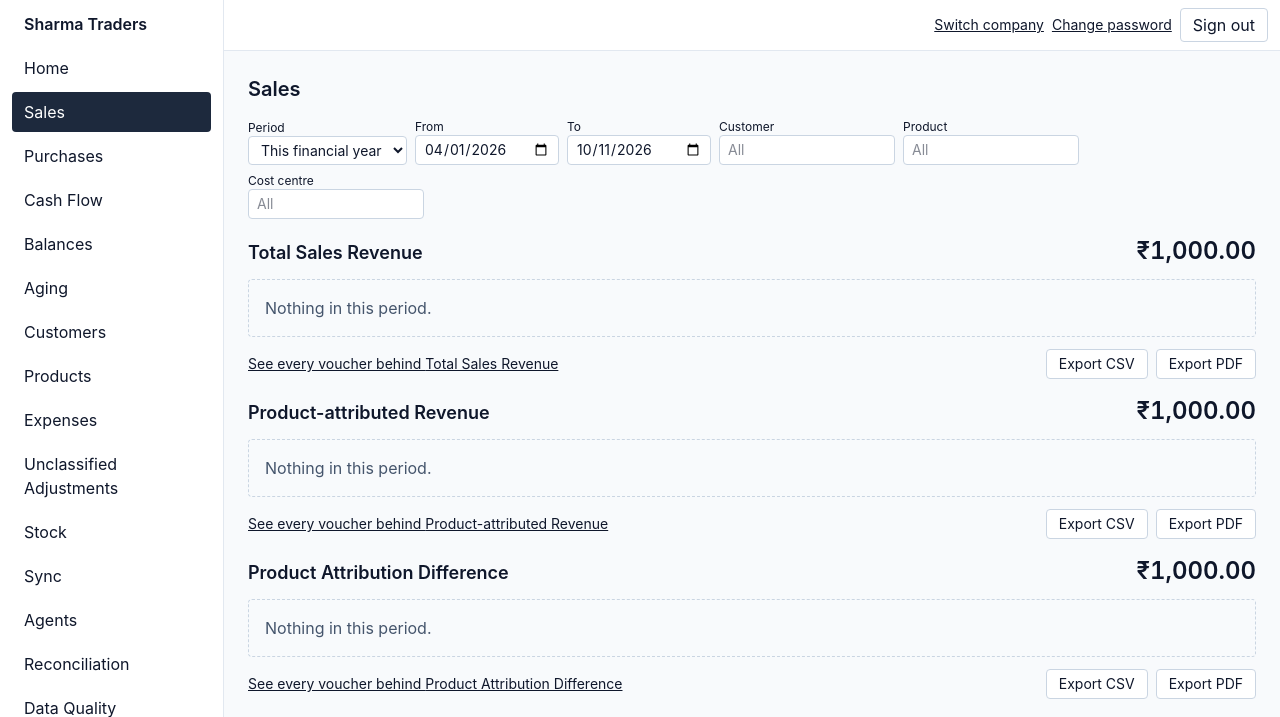
Scenario: exporting a view (EXP-1.1-1.6) › shows the server's refusal instead of a broken file
The image size is (1280, 717).
Click the 1st button "Export CSV" at (1097, 364), box [1046,349,1148,379]
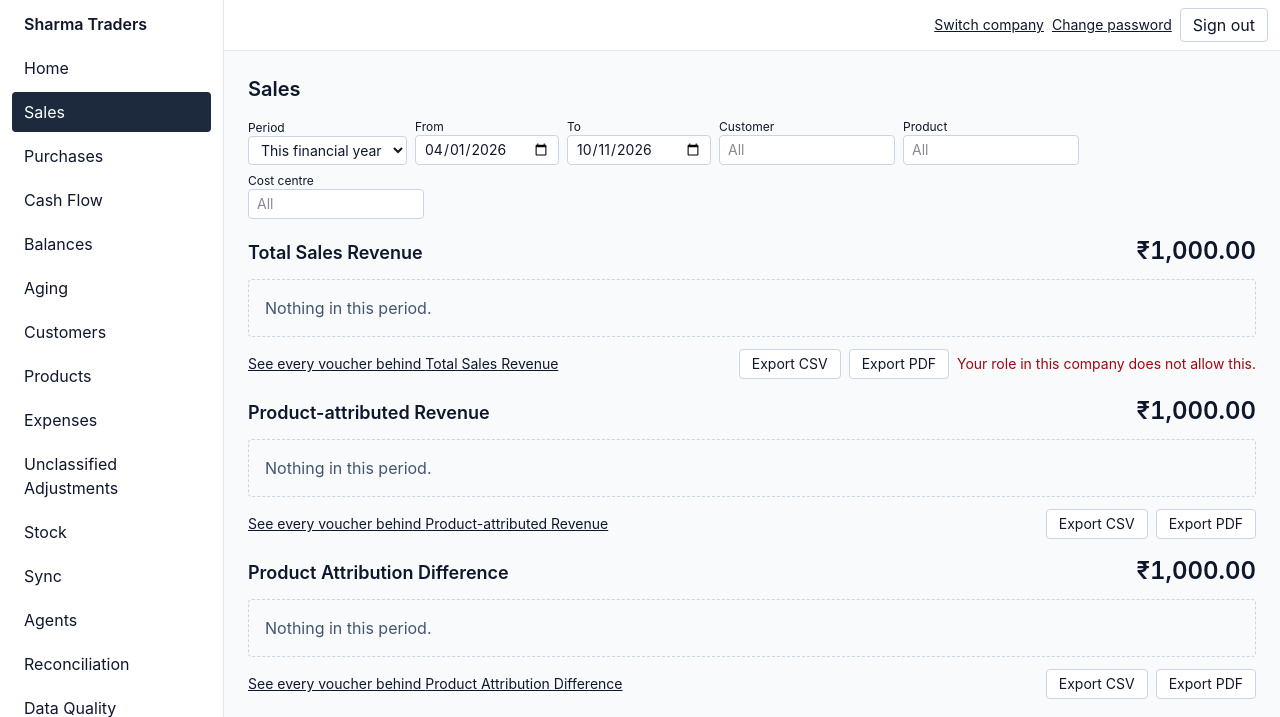
Expected: the message reads "Your role in this company does not allow this.", [957,355,1256,372]
